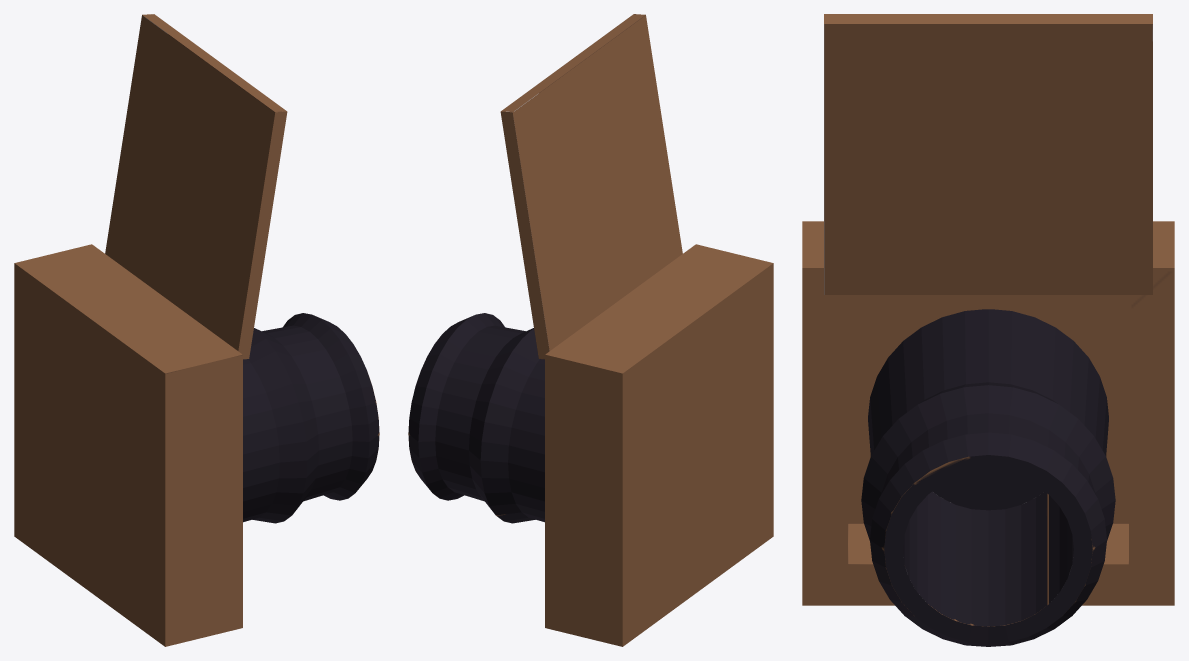
The model's file is cannons.fbx.
The picture shows the model from 3 angles, left to right: view 1: azimuth 30°, elevation 25°; view 2: azimuth 150°, elevation 25°; view 3: azimuth 270°, elevation 25°; orthographic projection. The views are drawn at different scales.
Parts seen in each view (by area): view 1: Cube; view 2: Cube; view 3: Cube.
Boxes of the visible parts, left/top/right/bottom form: Cube: left=14, top=14, right=379, bottom=646; Cube: left=408, top=14, right=773, bottom=646; Cube: left=802, top=14, right=1174, bottom=646.
Size of the model in its own units: 246 by 473 by 259.
1 material, 1 textured.
